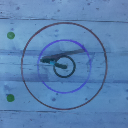Axe Tip: (48, 57, 59, 60)
